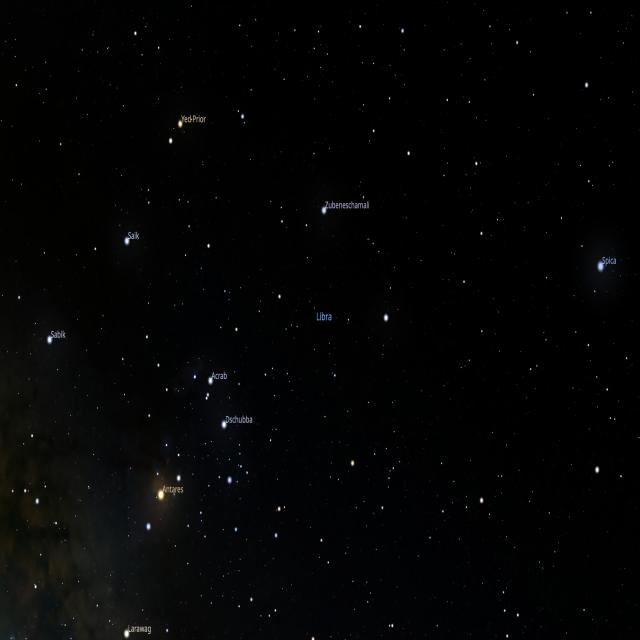Libra: (231, 225, 380, 411)
